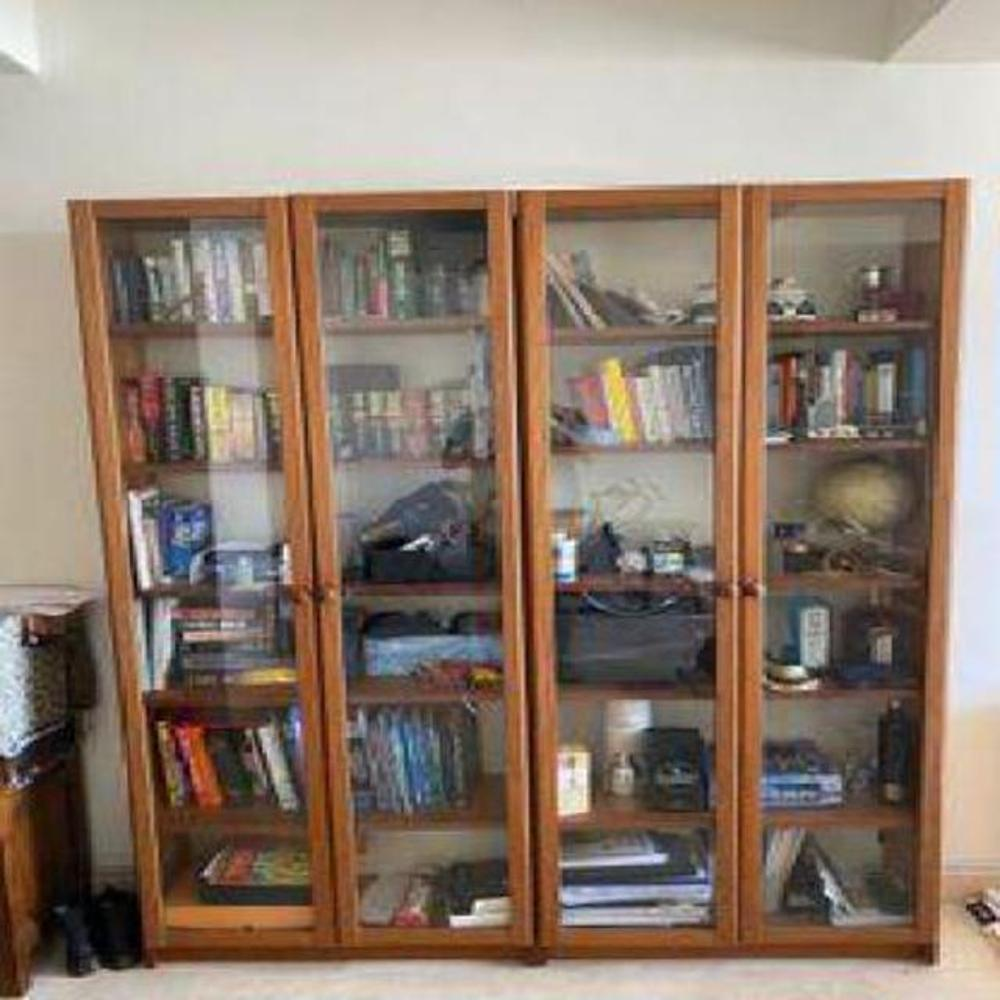lamp: (67, 184, 534, 967), (516, 176, 975, 968)
